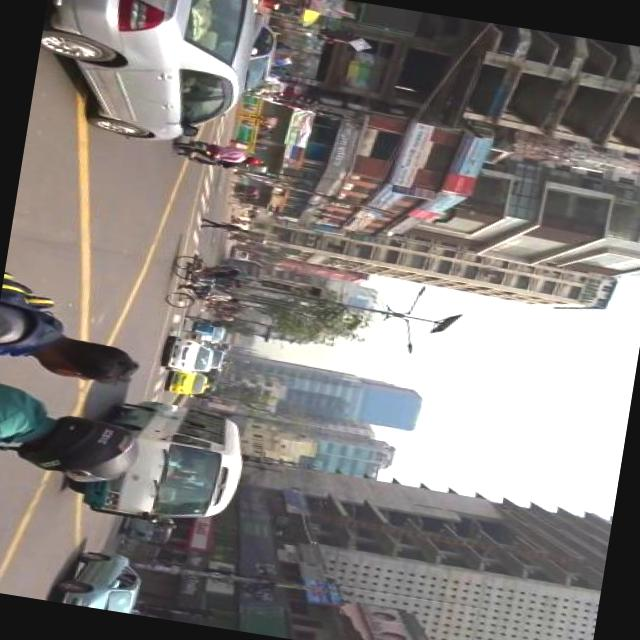bus: (81, 390, 252, 532), (224, 258, 262, 287)
car: (31, 0, 263, 155), (59, 544, 148, 614), (240, 11, 282, 99), (165, 333, 218, 378), (167, 368, 212, 398), (192, 322, 228, 343)
motorcycle: (165, 252, 243, 316), (118, 511, 176, 546), (172, 137, 225, 165), (228, 179, 260, 197), (275, 52, 297, 72), (258, 113, 280, 128), (228, 231, 252, 243)
